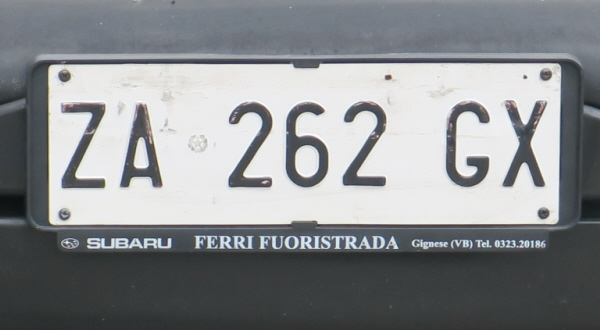license_plate: (46, 63, 562, 226)
